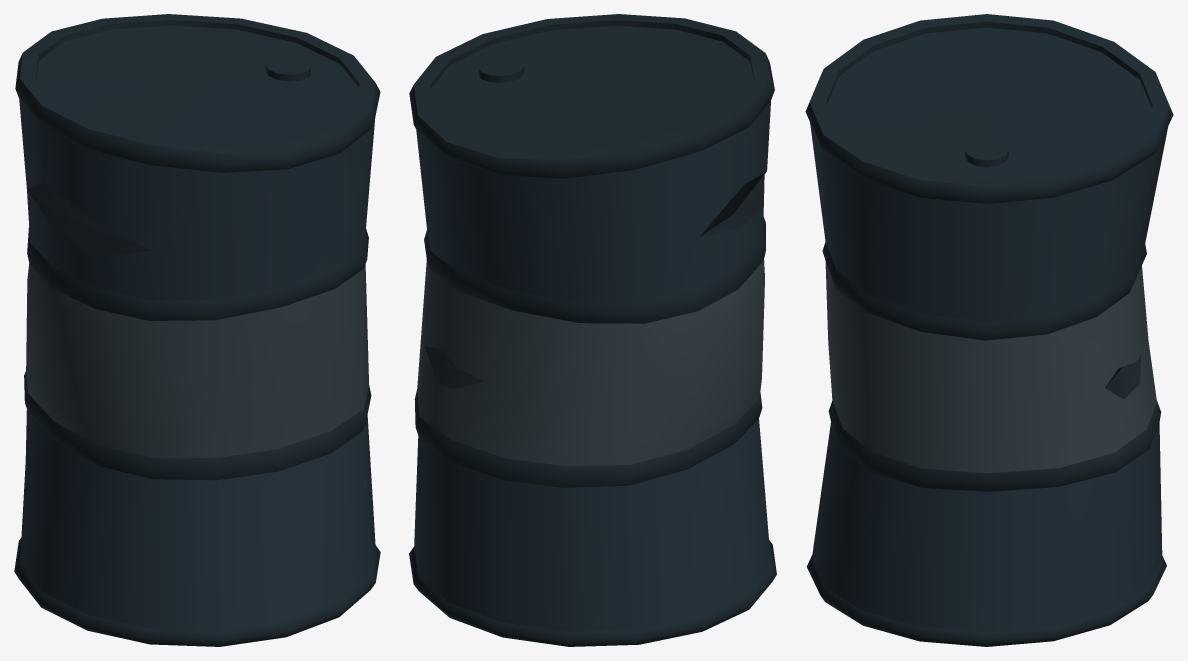
The model's file is 20C_Barrel_02.fbx.
3 views of the same model, side by side, from view 1: azimuth 30°, elevation 25°; view 2: azimuth 150°, elevation 25°; view 3: azimuth 270°, elevation 25° (orthographic). The views are drawn at different scales.
Parts seen in each view (by area): view 1: 20C_Barrel_02; view 2: 20C_Barrel_02; view 3: 20C_Barrel_02.
Part boxes in pixels (bbox=[...]): 20C_Barrel_02: bbox=[14, 14, 380, 646]; 20C_Barrel_02: bbox=[409, 14, 776, 646]; 20C_Barrel_02: bbox=[805, 14, 1173, 646].
Bounding box in the file's own units: 9.25 × 13.86 × 9.48.
